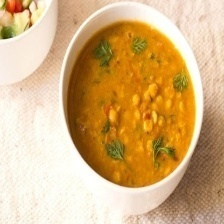dal: (66, 20, 196, 190)
